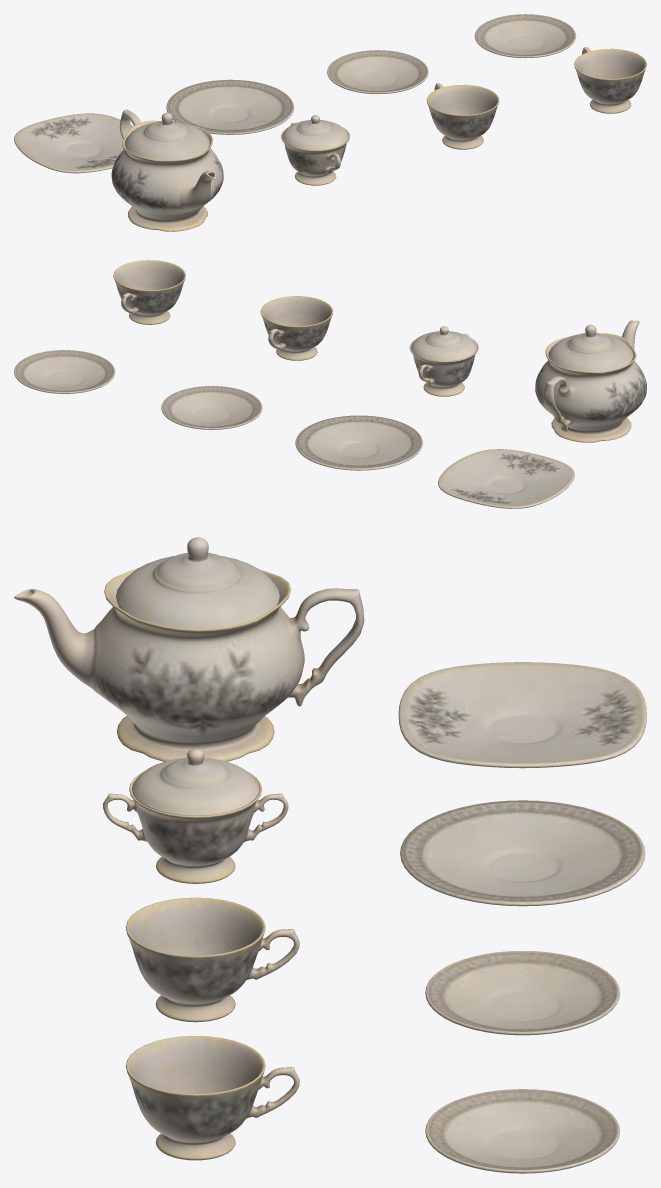
Rendered from tea_set.glb.
3 views of the same model, one above another, from view 1: azimuth 30°, elevation 25°; view 2: azimuth 150°, elevation 25°; view 3: azimuth 270°, elevation 25° (orthographic). The views are drawn at different scales.
Parts seen in each view (by area): view 1: tea_set_01_teapot_01, tea_set_01_plate_large_circular_03, tea_set_01_plate_large_square_01, tea_set_01_cup_small_01, tea_set_01_cup_small_02, tea_set_01_saucer_circular_03, tea_set_01_saucer_circular_04, tea_set_01_teapot_01_lid, tea_set_01_sugar_cup_01, tea_set_01_sugar_cup_01_lid; view 2: tea_set_01_teapot_01, tea_set_01_plate_large_square_01, tea_set_01_plate_large_circular_03, tea_set_01_cup_small_01, tea_set_01_cup_small_02, tea_set_01_saucer_circular_04, tea_set_01_saucer_circular_03, tea_set_01_teapot_01_lid, tea_set_01_sugar_cup_01, tea_set_01_sugar_cup_01_lid; view 3: tea_set_01_teapot_01, tea_set_01_plate_large_square_01, tea_set_01_plate_large_circular_03, tea_set_01_cup_small_01, tea_set_01_cup_small_02, tea_set_01_saucer_circular_03, tea_set_01_saucer_circular_04, tea_set_01_teapot_01_lid, tea_set_01_sugar_cup_01, tea_set_01_sugar_cup_01_lid.
Part boxes in pixels (<box>): tea_set_01_teapot_01: <box>111,109,223,231</box>; tea_set_01_plate_large_circular_03: <box>166,79,294,134</box>; tea_set_01_plate_large_square_01: <box>14,113,133,173</box>; tea_set_01_cup_small_01: <box>426,83,499,149</box>; tea_set_01_cup_small_02: <box>574,47,646,113</box>; tea_set_01_saucer_circular_03: <box>474,14,576,58</box>; tea_set_01_saucer_circular_04: <box>327,50,428,94</box>; tea_set_01_teapot_01_lid: <box>125,112,209,160</box>; tea_set_01_sugar_cup_01: <box>281,122,349,185</box>; tea_set_01_sugar_cup_01_lid: <box>282,115,348,150</box>; tea_set_01_teapot_01: <box>535,320,646,442</box>; tea_set_01_plate_large_square_01: <box>438,449,574,508</box>; tea_set_01_plate_large_circular_03: <box>295,415,422,470</box>; tea_set_01_cup_small_01: <box>260,296,333,360</box>; tea_set_01_cup_small_02: <box>113,260,185,324</box>; tea_set_01_saucer_circular_04: <box>161,386,262,429</box>; tea_set_01_saucer_circular_03: <box>14,350,115,393</box>; tea_set_01_teapot_01_lid: <box>548,324,633,371</box>; tea_set_01_sugar_cup_01: <box>409,333,478,396</box>; tea_set_01_sugar_cup_01_lid: <box>411,326,477,361</box>; tea_set_01_teapot_01: <box>14,568,364,761</box>; tea_set_01_plate_large_square_01: <box>398,662,646,768</box>; tea_set_01_plate_large_circular_03: <box>400,800,645,906</box>; tea_set_01_cup_small_01: <box>125,897,299,1022</box>; tea_set_01_cup_small_02: <box>126,1036,299,1160</box>; tea_set_01_saucer_circular_03: <box>425,1089,620,1173</box>; tea_set_01_saucer_circular_04: <box>425,951,620,1035</box>; tea_set_01_teapot_01_lid: <box>116,537,279,628</box>; tea_set_01_sugar_cup_01: <box>103,771,288,883</box>; tea_set_01_sugar_cup_01_lid: <box>131,748,259,815</box>.
Bounding box in the file's own units: 0.9185 × 0.165 × 0.4839.
Materials: 1 (1 with a texture image).
